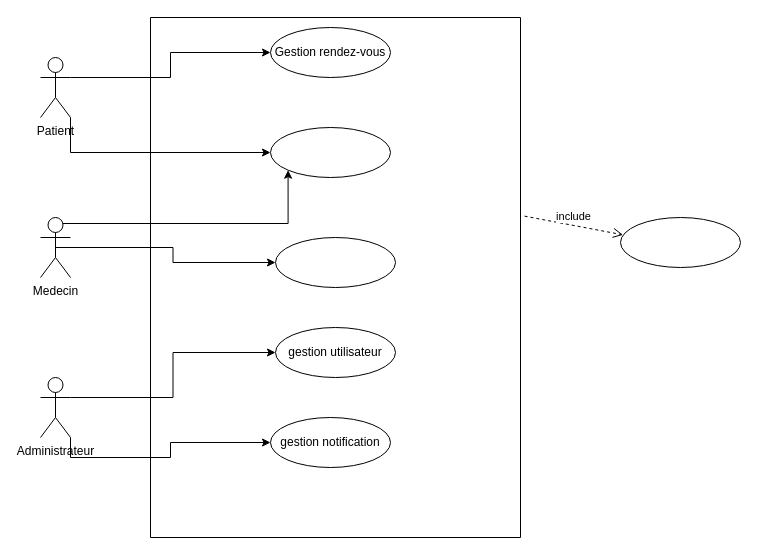
This 758x555 diagram has some shape labels left out. Each missing label, with the centre of its shape:
Consultation: the point at 335,262
dossier medicale: the point at 330,152
S'authentifier: the point at 680,242
